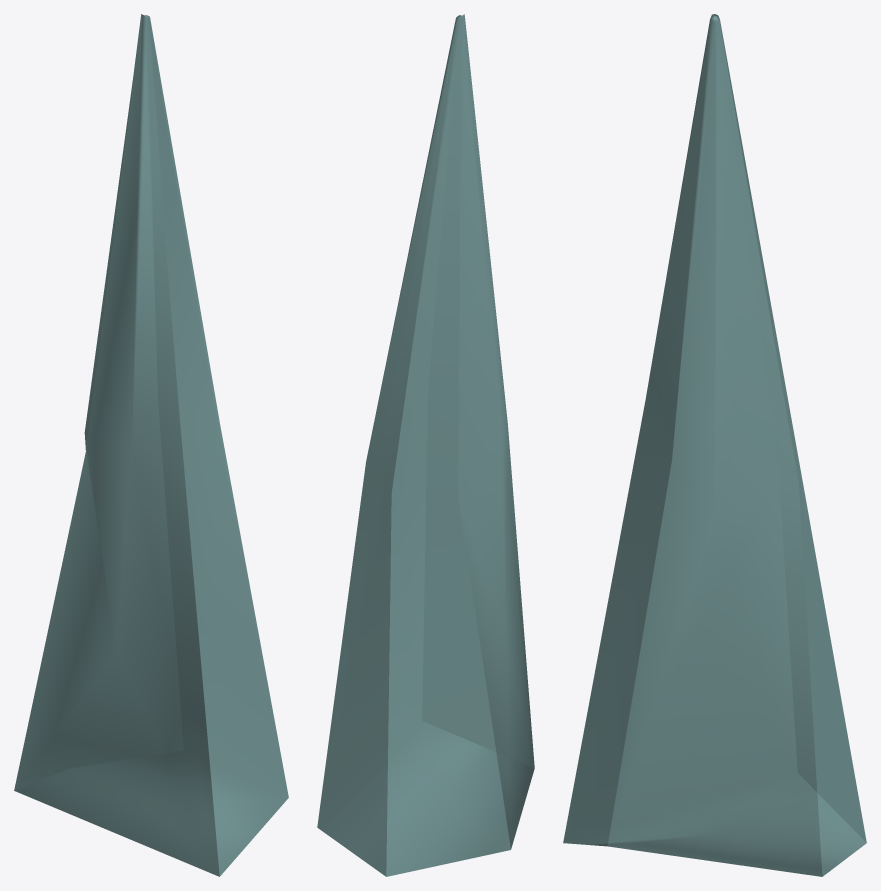
The model's file is Icicle.fbx.
3 renders of one model, left to right at view 1: azimuth 30°, elevation 25°; view 2: azimuth 150°, elevation 25°; view 3: azimuth 270°, elevation 25°, orthographic. The views are drawn at different scales.
Parts seen in each view (by area): view 1: Icicle; view 2: Icicle; view 3: Icicle.
Boxes of the visible parts, box(x1,y1,x2,y2) form: Icicle: box(14, 14, 288, 876); Icicle: box(317, 14, 534, 876); Icicle: box(563, 14, 866, 876).
Size of the model in its own units: 0.7071 by 3 by 1.
